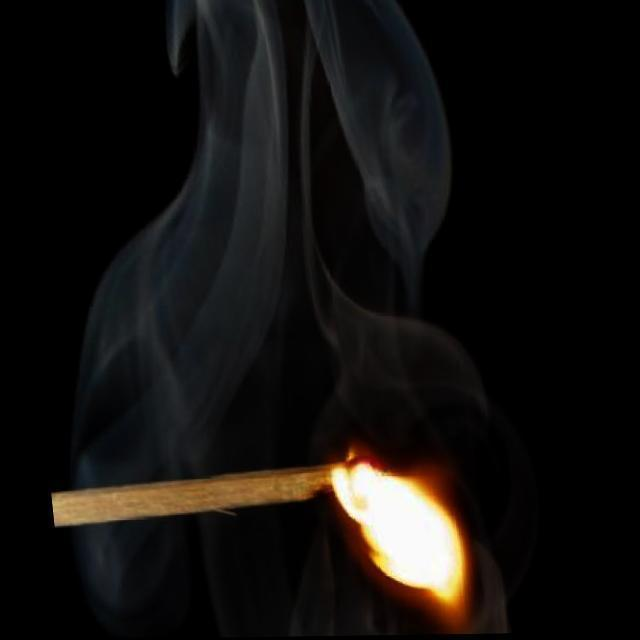Fire: (330, 444, 470, 626)
